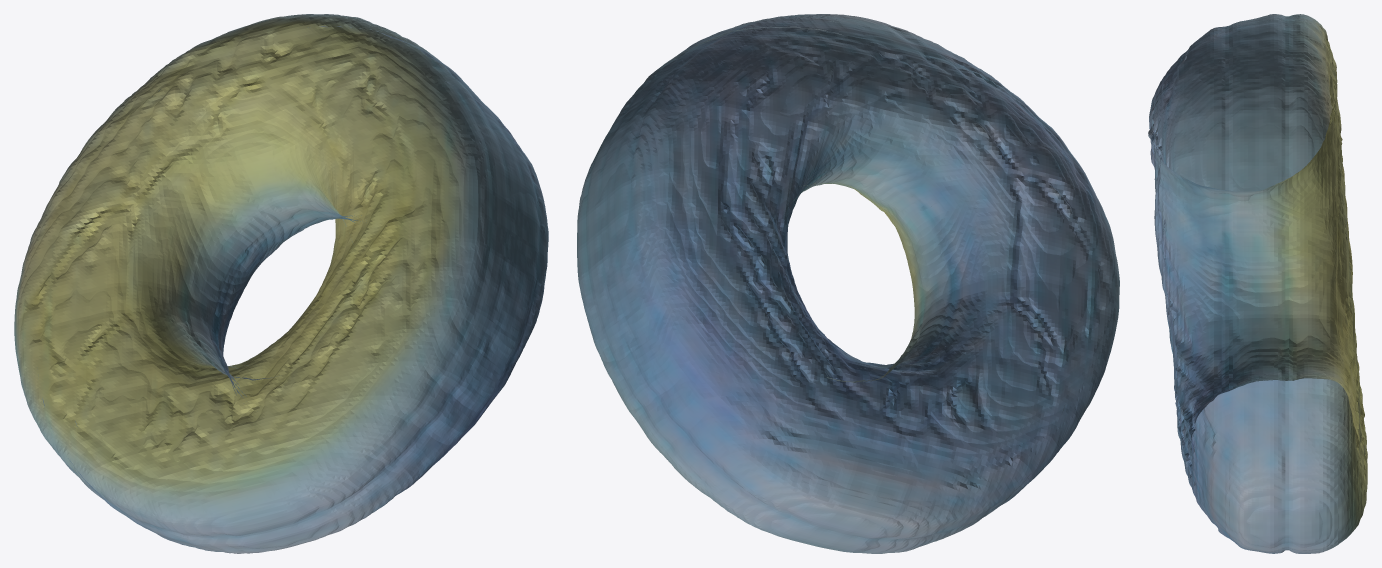
The picture shows the model from 3 angles, left to right: view 1: azimuth 30°, elevation 25°; view 2: azimuth 150°, elevation 25°; view 3: azimuth 270°, elevation 25°; orthographic projection. The views are drawn at different scales.
Parts seen in each view (by area): view 1: geometry_0; view 2: geometry_0; view 3: geometry_0.
Boxes of the visible parts, left/top/right/bottom form: geometry_0: left=14, top=14, right=548, bottom=553; geometry_0: left=577, top=14, right=1119, bottom=553; geometry_0: left=1148, top=14, right=1367, bottom=553.
Bounding box in the file's own units: 1.6 × 1.6 × 0.6509.
